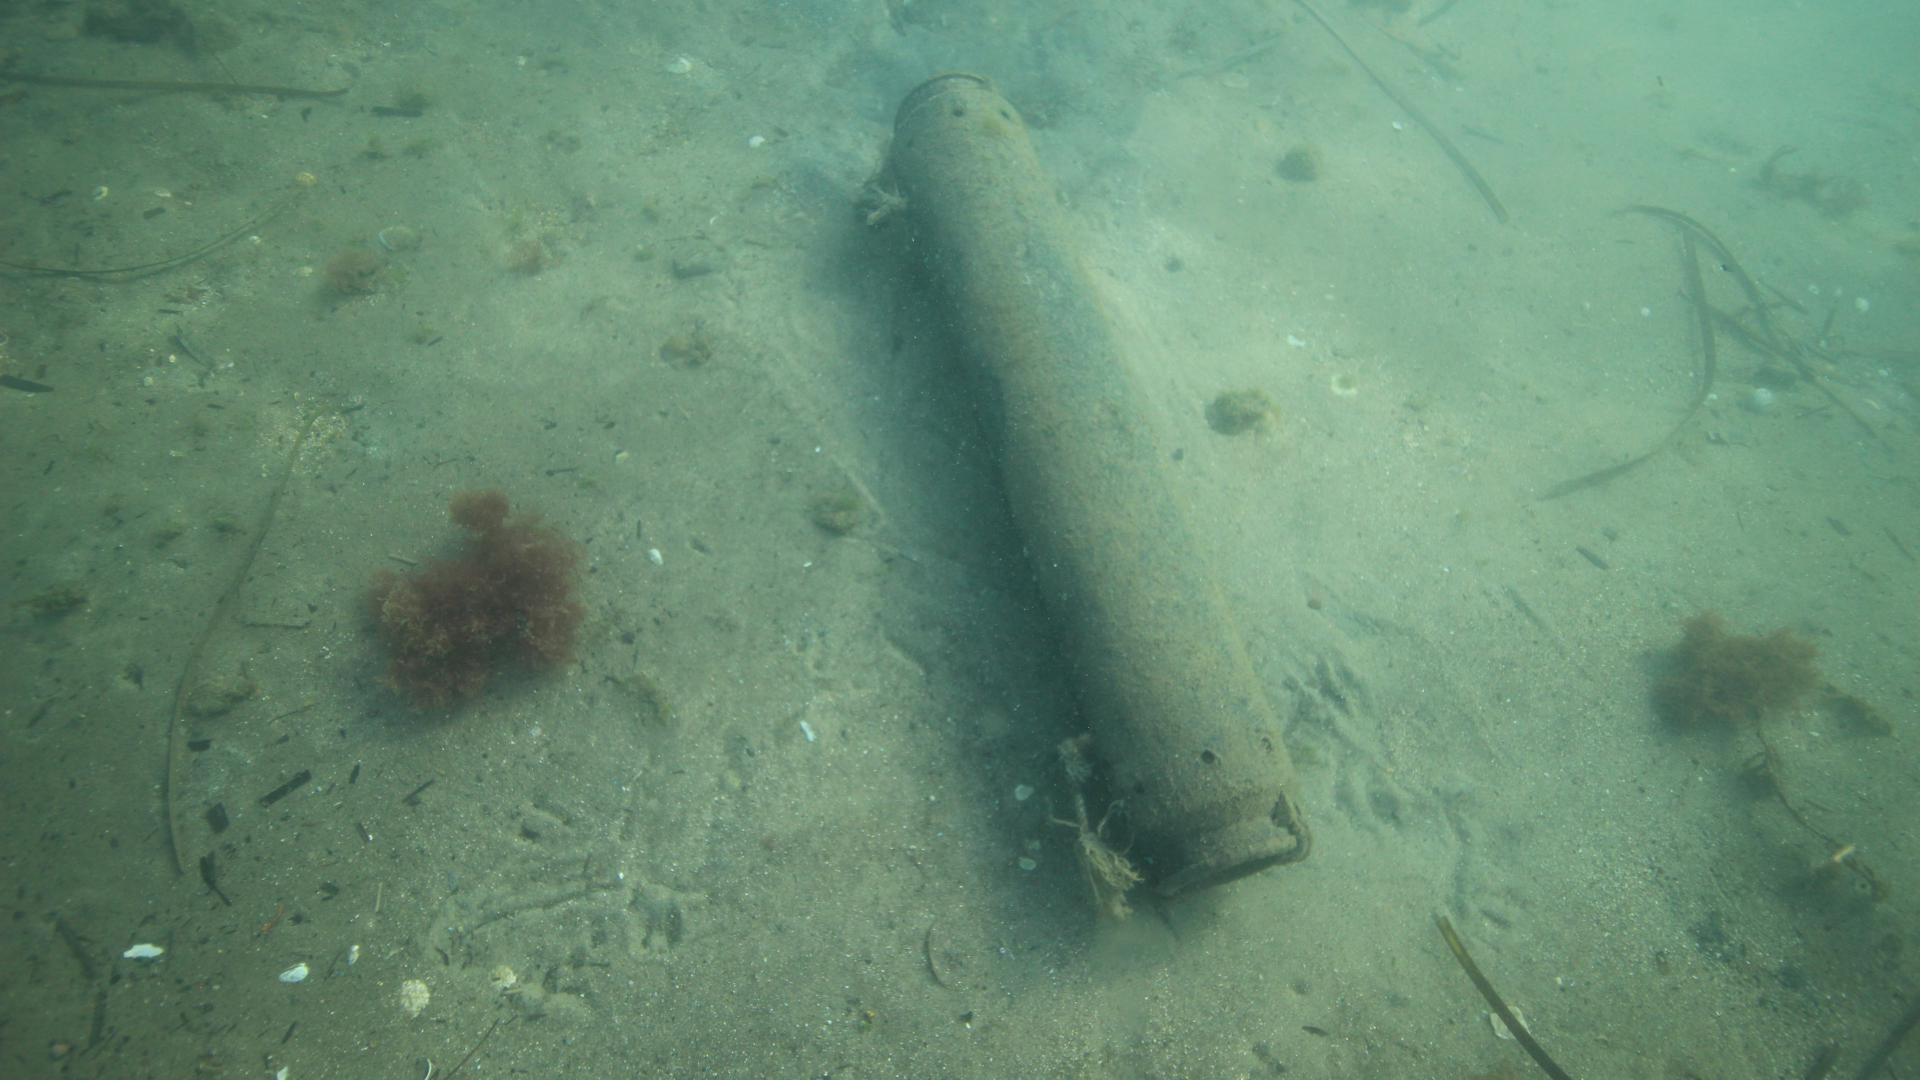eel fish trap: (889, 73, 1311, 905)
